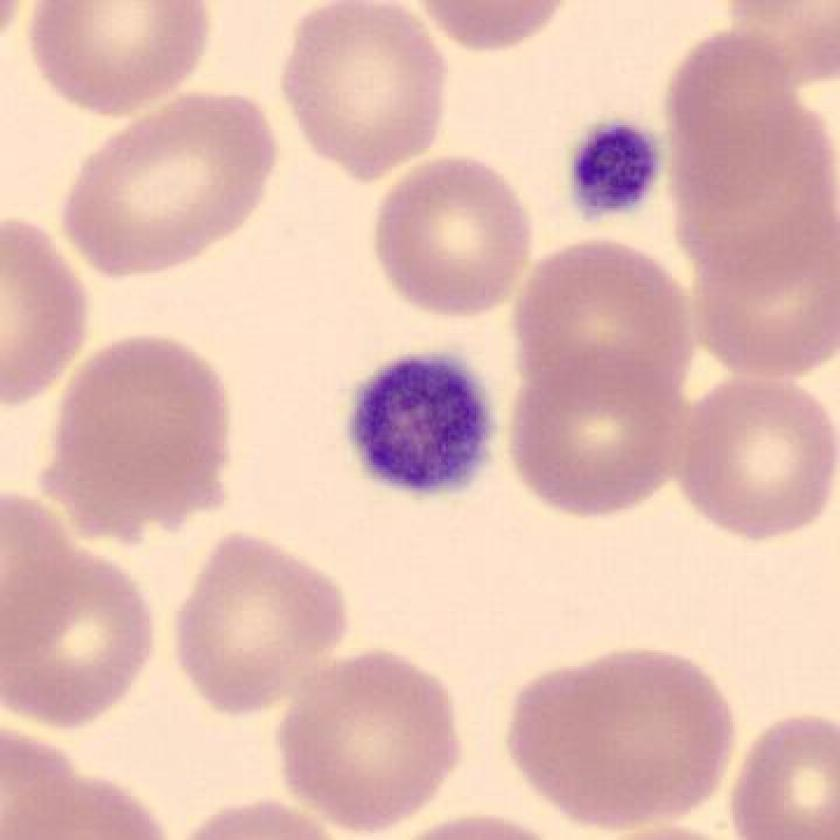platelets: (339, 344, 505, 510), (556, 115, 678, 233)
